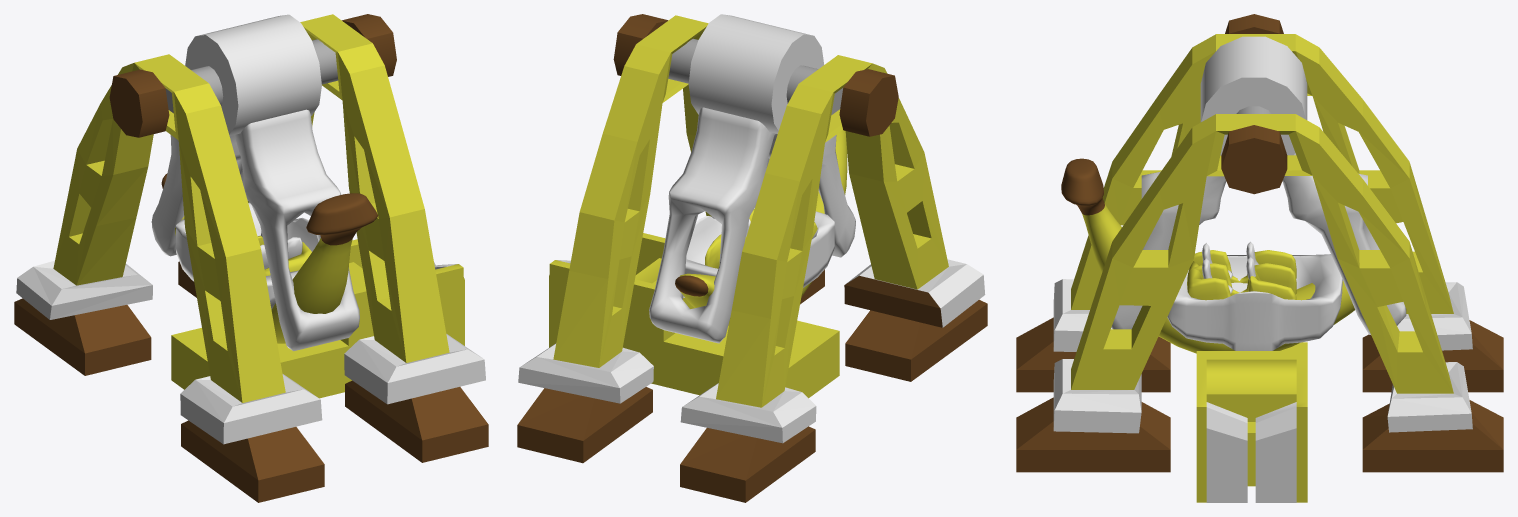
The model's file is Fruitstoy1.fbx.
3 renders of one model, left to right at view 1: azimuth 30°, elevation 25°; view 2: azimuth 150°, elevation 25°; view 3: azimuth 270°, elevation 25°, orthographic.
Visible parts, largest first — view 1: pCube16, pCube14, pCube4, pCylinder1, pCube18, pCube1, pCube17, pCube6, pCube15, pCylinder2; view 2: pCube16, pCube14, pCube4, pCube18, pCylinder1, pCube17, pCube6, pCube1, pCylinder2, pCube15; view 3: pCube14, pCube16, pCube18, pCube6, pCylinder1, pCube4, pCube1, pCube15, pCube10, pCube9, pCube11, pCube17.
Boxes of the visible parts, left/top/right/bottom form: pCube16: left=14, top=54, right=324, bottom=502; pCube14: left=178, top=14, right=488, bottom=462; pCube4: left=151, top=109, right=359, bottom=351; pCylinder1: left=185, top=14, right=321, bottom=135; pCube18: left=171, top=239, right=464, bottom=398; pCube1: left=161, top=173, right=377, bottom=343; pCube17: left=109, top=69, right=169, bottom=137; pCube6: left=176, top=202, right=318, bottom=309; pCube15: left=342, top=14, right=396, bottom=76; pCylinder2: left=165, top=39, right=338, bottom=112; pCube16: left=680, top=55, right=987, bottom=502; pCube14: left=517, top=15, right=824, bottom=463; pCube4: left=649, top=107, right=855, bottom=343; pCube18: left=549, top=233, right=839, bottom=398; pCylinder1: left=688, top=14, right=824, bottom=133; pCube17: left=839, top=69, right=898, bottom=136; pCube6: left=683, top=208, right=834, bottom=297; pCube1: left=675, top=130, right=847, bottom=325; pCylinder2: left=668, top=38, right=842, bottom=114; pCube15: left=613, top=14, right=668, bottom=75; pCube14: left=1016, top=114, right=1503, bottom=472; pCube16: left=1016, top=34, right=1503, bottom=392; pCube18: left=1196, top=342, right=1307, bottom=502; pCube6: left=1167, top=254, right=1342, bottom=350; pCylinder1: left=1200, top=36, right=1307, bottom=155; pCube4: left=1111, top=153, right=1406, bottom=334; pCube1: left=1061, top=158, right=1354, bottom=353; pCube15: left=1221, top=125, right=1287, bottom=194; pCube10: left=1187, top=261, right=1296, bottom=300; pCube9: left=1187, top=263, right=1296, bottom=295; pCube11: left=1192, top=250, right=1296, bottom=283; pCube17: left=1225, top=14, right=1283, bottom=33.
Size of the model in its own units: 31.7 by 34.01 by 41.87.
